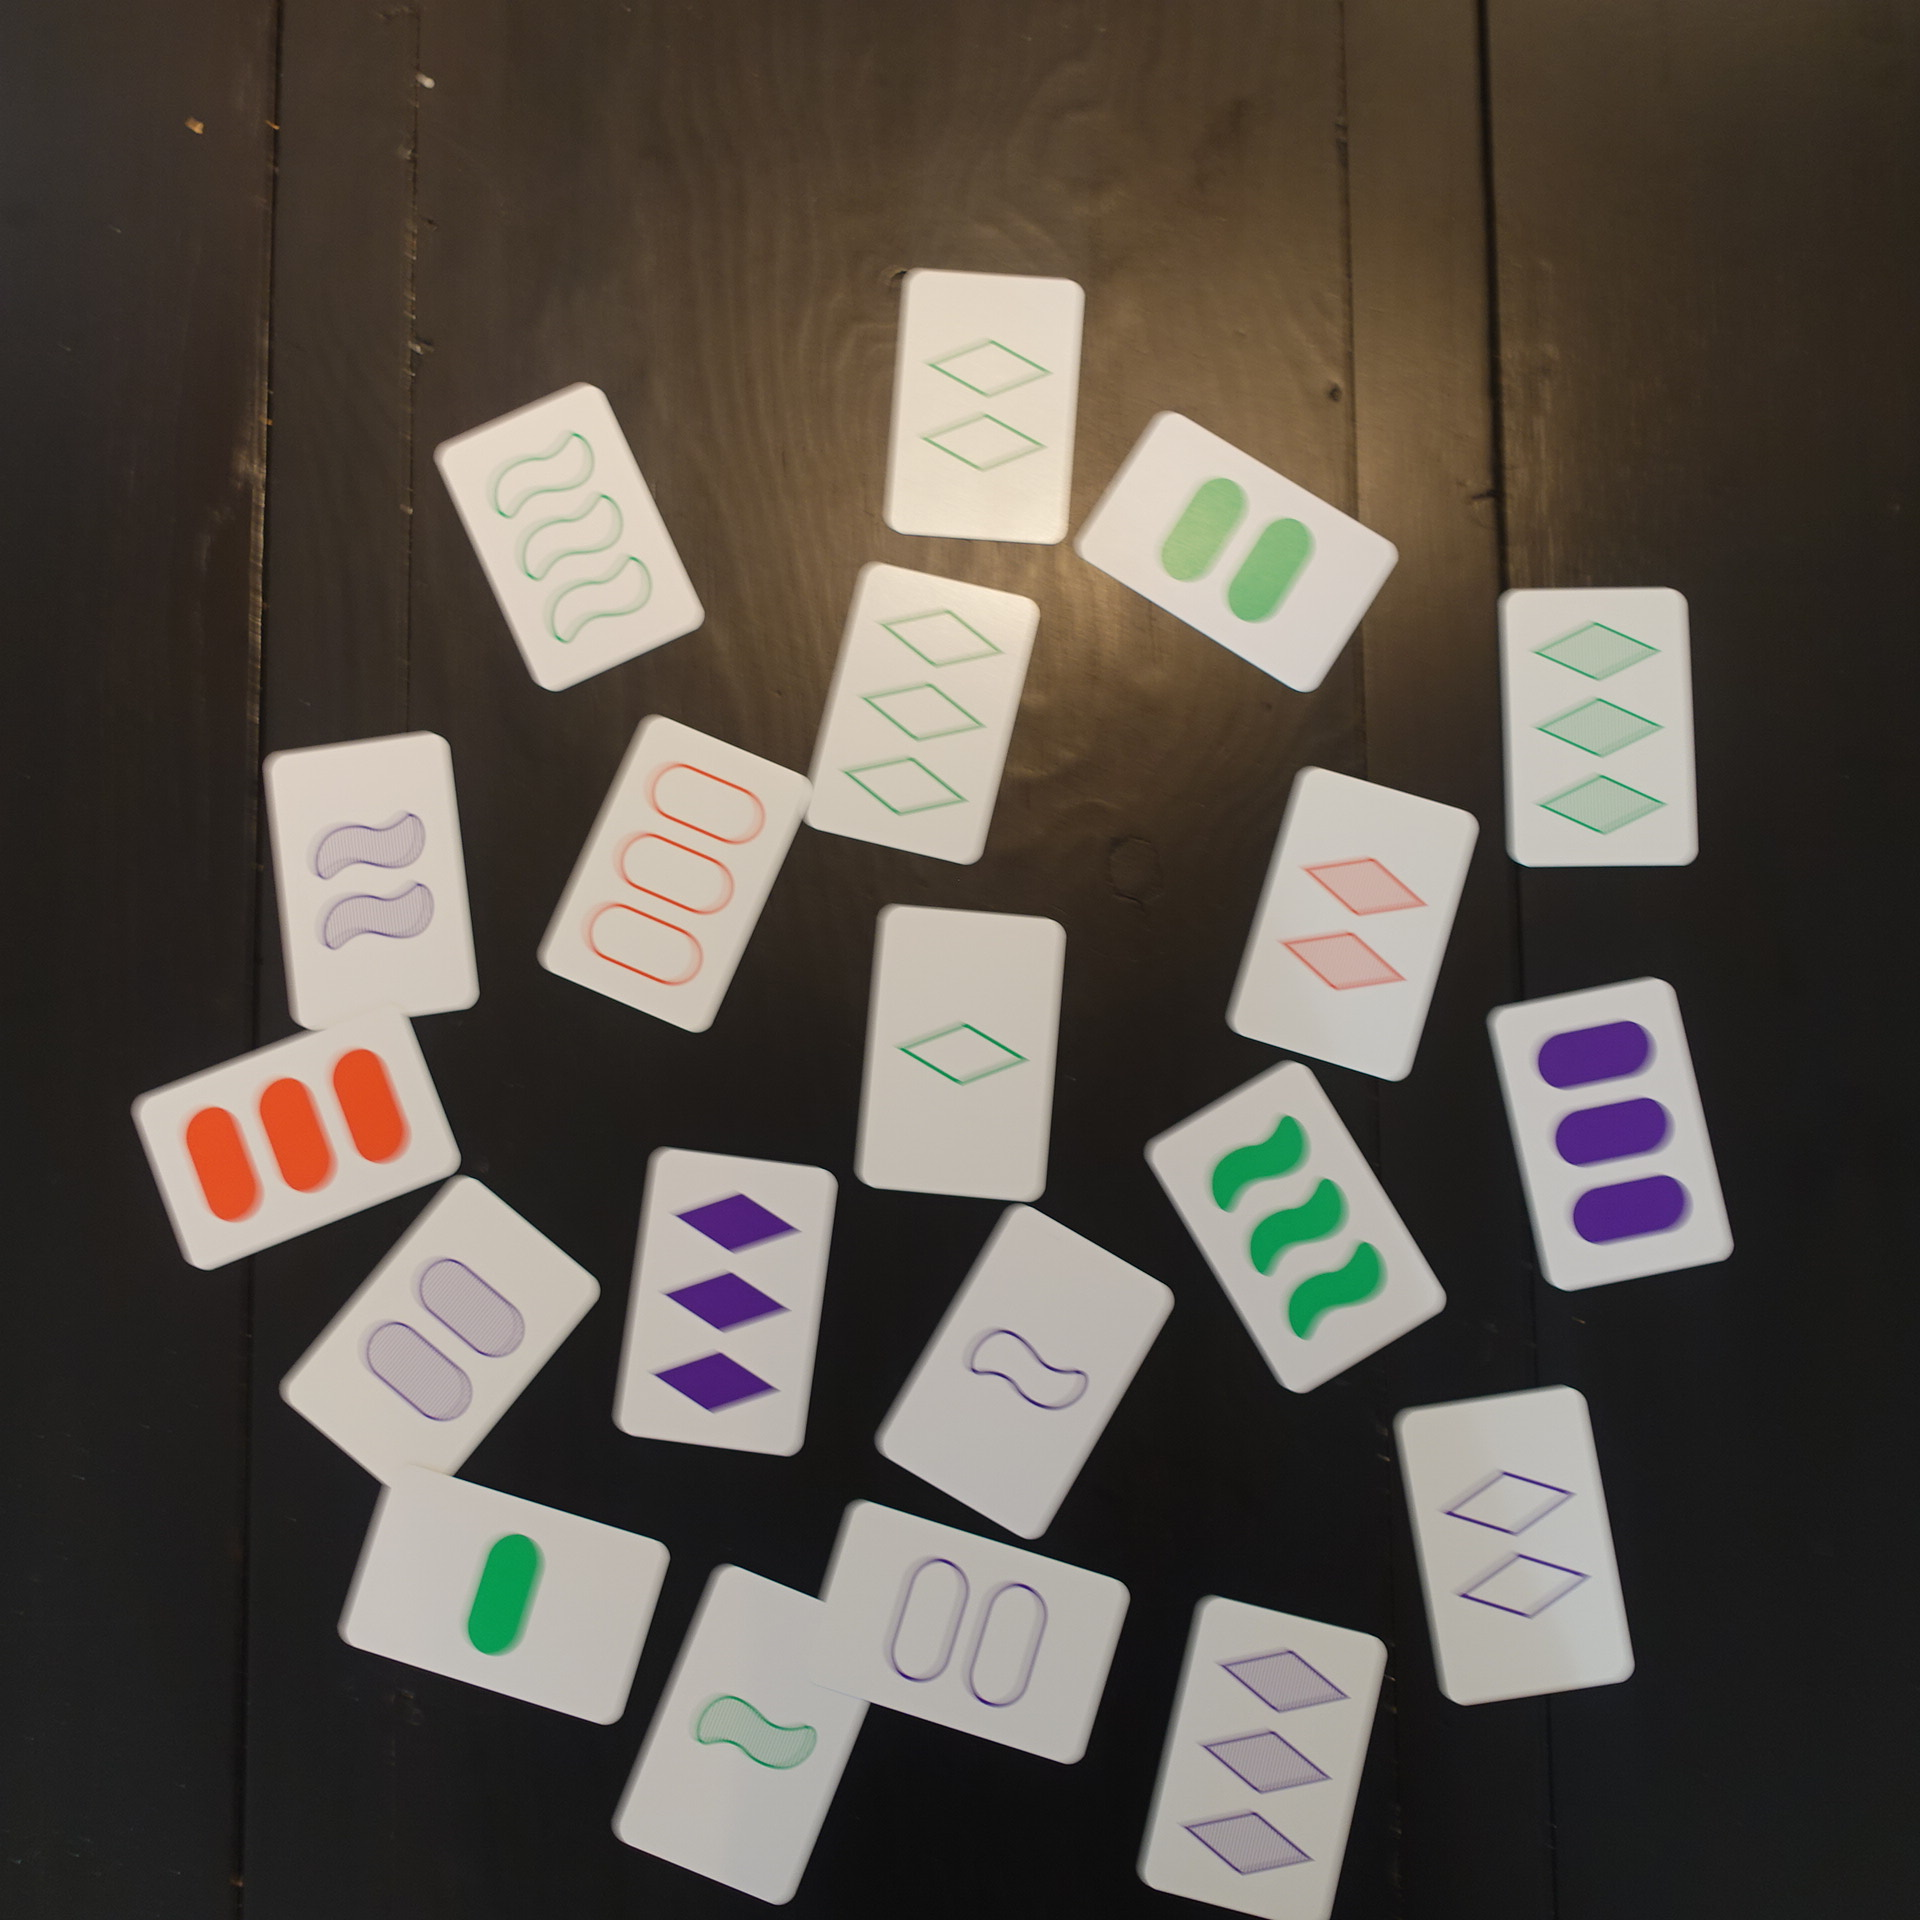c-1-f-d-g: (1132, 1053, 1456, 1405), (1053, 403, 1410, 707), (601, 1560, 898, 1913), (324, 1454, 680, 1739), (420, 378, 721, 703), (795, 549, 1051, 879), (1472, 571, 1720, 884), (833, 895, 1074, 1213), (855, 260, 1102, 563)
c-1-f-d-p: (278, 1167, 610, 1505), (872, 1197, 1183, 1553), (782, 1495, 1145, 1776), (1115, 1588, 1405, 1920), (1373, 1377, 1651, 1713), (1463, 971, 1748, 1298), (608, 1139, 867, 1472), (239, 724, 496, 1039)
c-1-f-d-r: (127, 995, 469, 1278), (535, 698, 818, 1039), (1218, 747, 1484, 1094)
